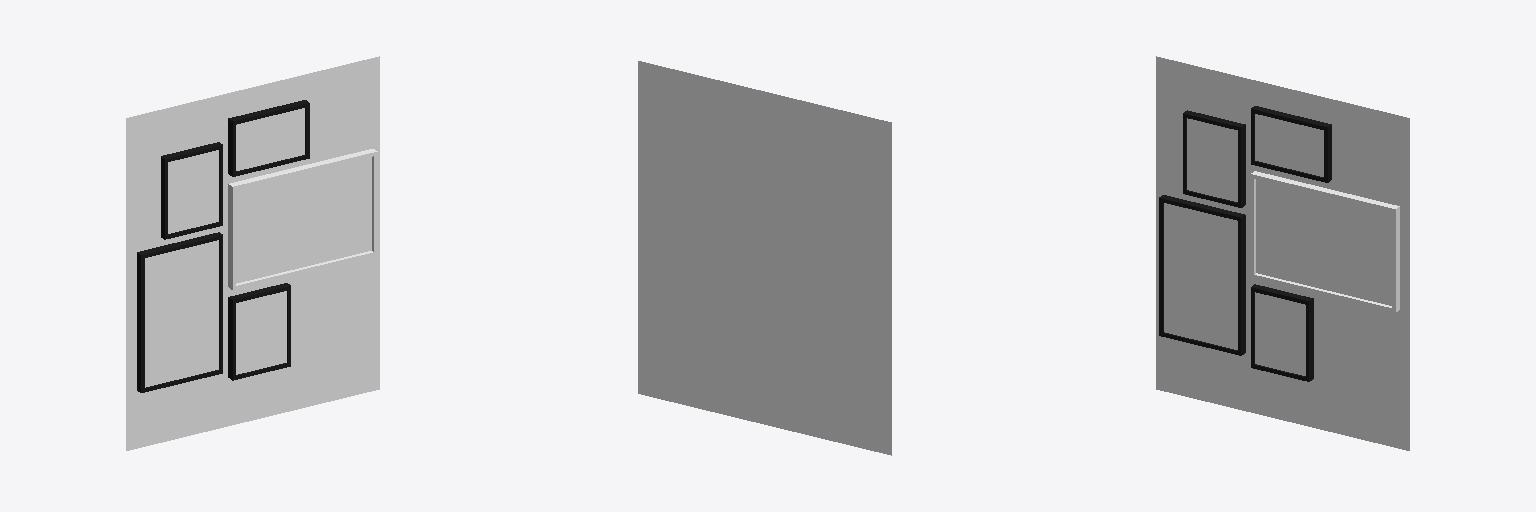
The model's file is gallery.obj.
The picture shows the model from 3 angles: view 1: azimuth 30°, elevation 25°; view 2: azimuth 150°, elevation 25°; view 3: azimuth 330°, elevation 25°; orthographic projection.
Parts seen in each view (by area): view 1: root, node_id4, node_id15, node_id7, node_id11, node_id19; view 2: root; view 3: root, node_id4, node_id15, node_id11, node_id7, node_id19.
Boxes of the visible parts, x1=… form: root: x1=126, y1=56, x2=379, y2=450; node_id4: x1=228, y1=149, x2=377, y2=289; node_id15: x1=137, y1=232, x2=222, y2=392; node_id7: x1=228, y1=283, x2=290, y2=380; node_id11: x1=161, y1=142, x2=222, y2=239; node_id19: x1=236, y1=108, x2=304, y2=170; root: x1=638, y1=61, x2=891, y2=455; root: x1=1156, y1=56, x2=1409, y2=450; node_id4: x1=1251, y1=171, x2=1399, y2=312; node_id15: x1=1159, y1=195, x2=1245, y2=355; node_id11: x1=1183, y1=110, x2=1245, y2=207; node_id7: x1=1251, y1=284, x2=1313, y2=381; node_id19: x1=1255, y1=114, x2=1323, y2=176.
Bounding box in the file's own units: 0.378 × 0.4724 × 0.0154.